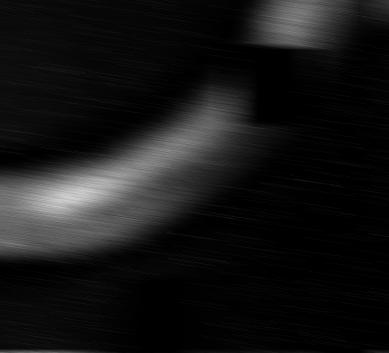Airbag: (0, 0, 389, 353), (377, 0, 389, 353), (0, 351, 389, 353), (377, 351, 389, 353)
